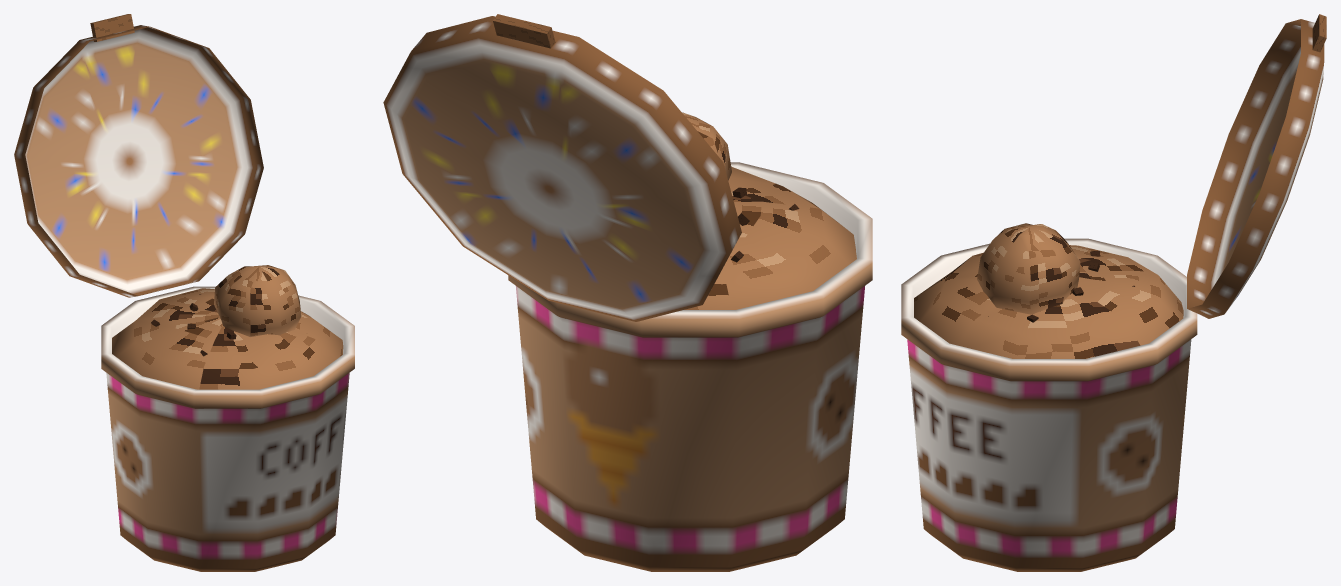
Rendered from Flavor Tub Coffee.fbx.
The picture shows the model from 3 angles, left to right: view 1: azimuth 30°, elevation 25°; view 2: azimuth 150°, elevation 25°; view 3: azimuth 270°, elevation 25°; orthographic projection. The views are drawn at different scales.
Visible parts, largest first — view 1: Flavor Tub Coffee lid, Flavor Tub Coffee tub, Flavor Tub Coffee ice cream, Flavor Tub Coffee swirl, Flavor Tub Coffee lid tab; view 2: Flavor Tub Coffee tub, Flavor Tub Coffee lid, Flavor Tub Coffee ice cream, Flavor Tub Coffee lid tab, Flavor Tub Coffee swirl; view 3: Flavor Tub Coffee tub, Flavor Tub Coffee lid, Flavor Tub Coffee ice cream, Flavor Tub Coffee swirl.
Part boxes in pixels (<box>): Flavor Tub Coffee lid: <box>14,25,263,297</box>; Flavor Tub Coffee tub: <box>101,286,354,571</box>; Flavor Tub Coffee ice cream: <box>112,288,343,389</box>; Flavor Tub Coffee swirl: <box>214,265,301,336</box>; Flavor Tub Coffee lid tab: <box>90,14,134,41</box>; Flavor Tub Coffee tub: <box>508,162,872,571</box>; Flavor Tub Coffee lid: <box>383,16,741,321</box>; Flavor Tub Coffee ice cream: <box>684,166,856,309</box>; Flavor Tub Coffee lid tab: <box>493,14,555,48</box>; Flavor Tub Coffee swirl: <box>682,112,731,180</box>; Flavor Tub Coffee tub: <box>901,238,1197,571</box>; Flavor Tub Coffee lid: <box>1187,19,1324,318</box>; Flavor Tub Coffee ice cream: <box>914,245,1183,358</box>; Flavor Tub Coffee swirl: <box>977,223,1080,316</box>.
Size of the model in its own units: 0.3033 by 0.5406 by 0.4191.
Materials: 5 (5 with a texture image).
